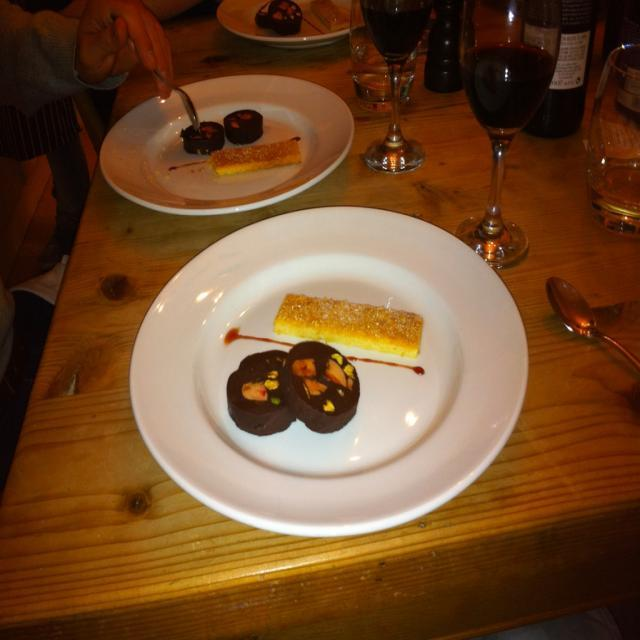ceramic plate: (126, 212, 524, 542)
